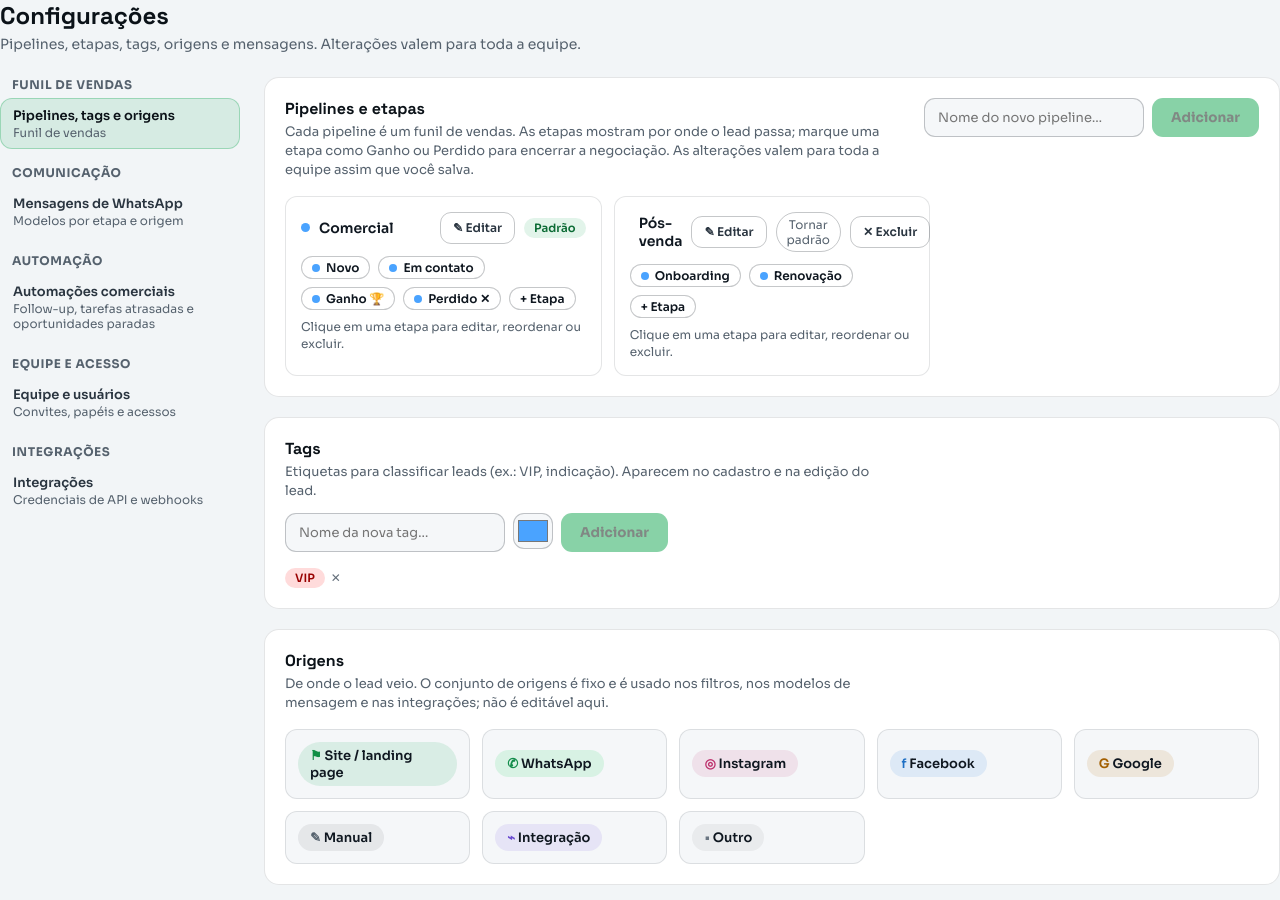
F-24 pipelines › pipeline com leads: a recusa do servidor (409) aparece como toast e o diálogo permanece
The image size is (1280, 900).
Click the button with aria-label "Excluir pipeline Pós-venda": (890, 232) [850,216,930,248]
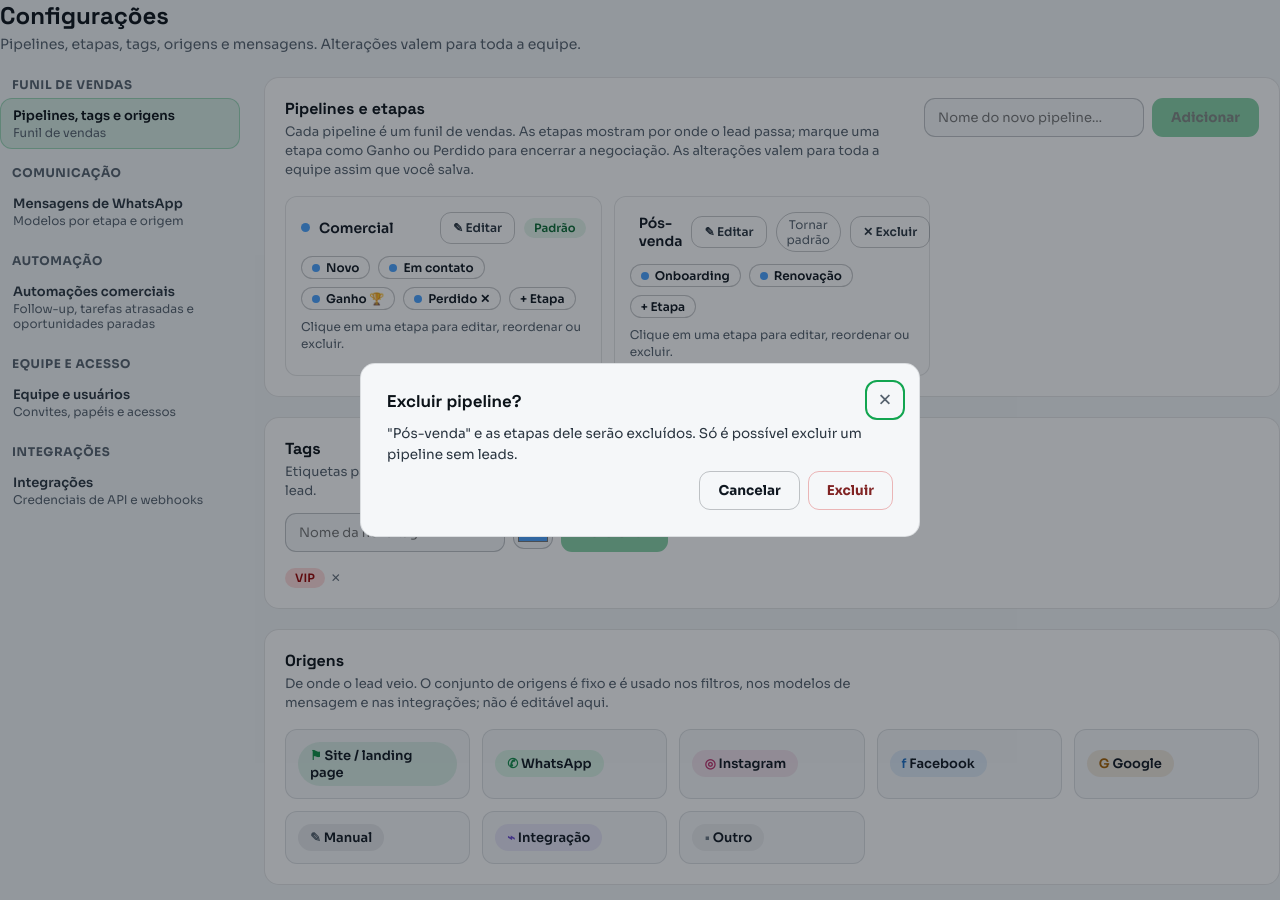
Click the button "Excluir": (850, 490) [808,471,893,510]
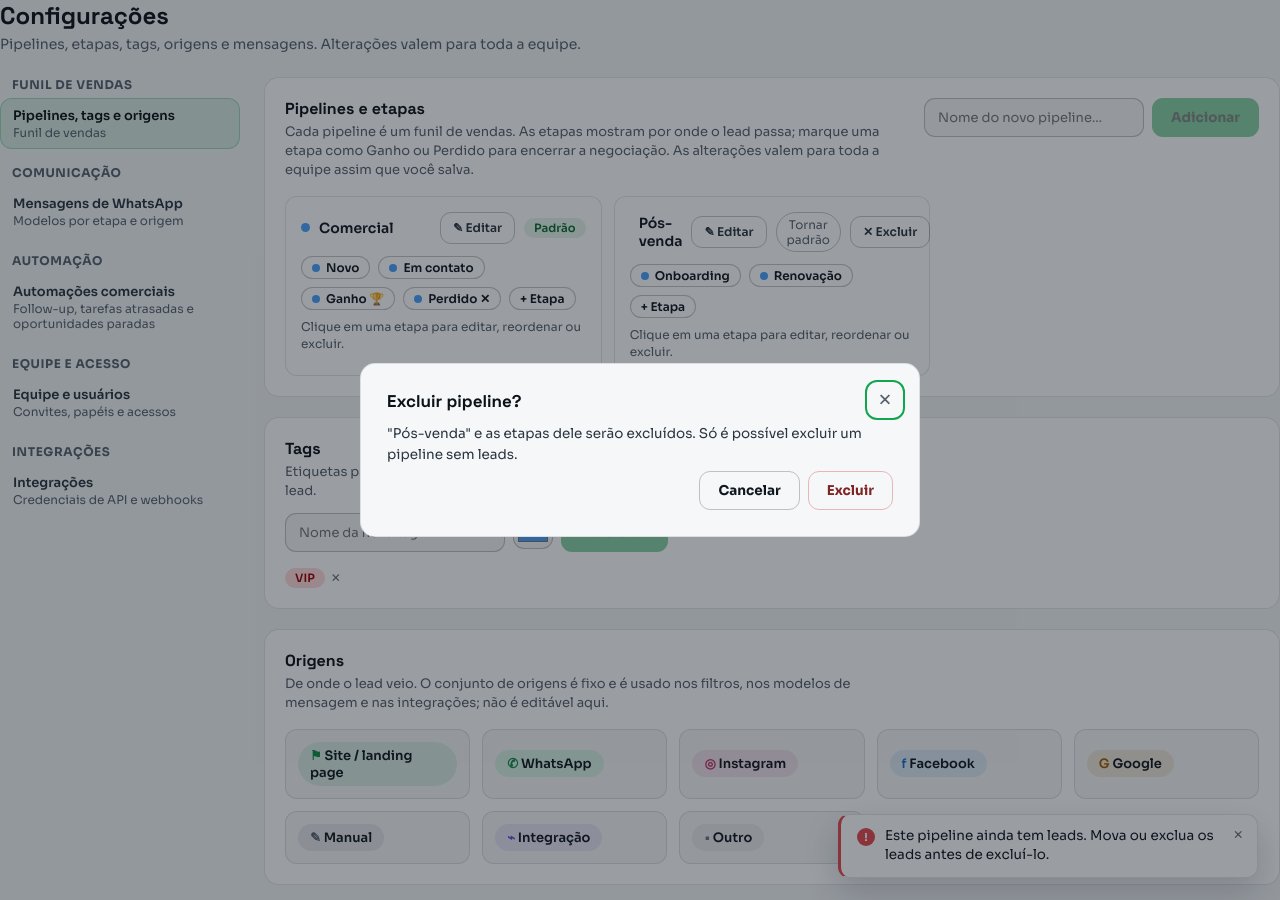
expect the dialog "Excluir pipeline?" is shown: met, box [360,363,920,537]
expect the text "ainda tem leads" is shown: met, box [885,827,1214,863]
